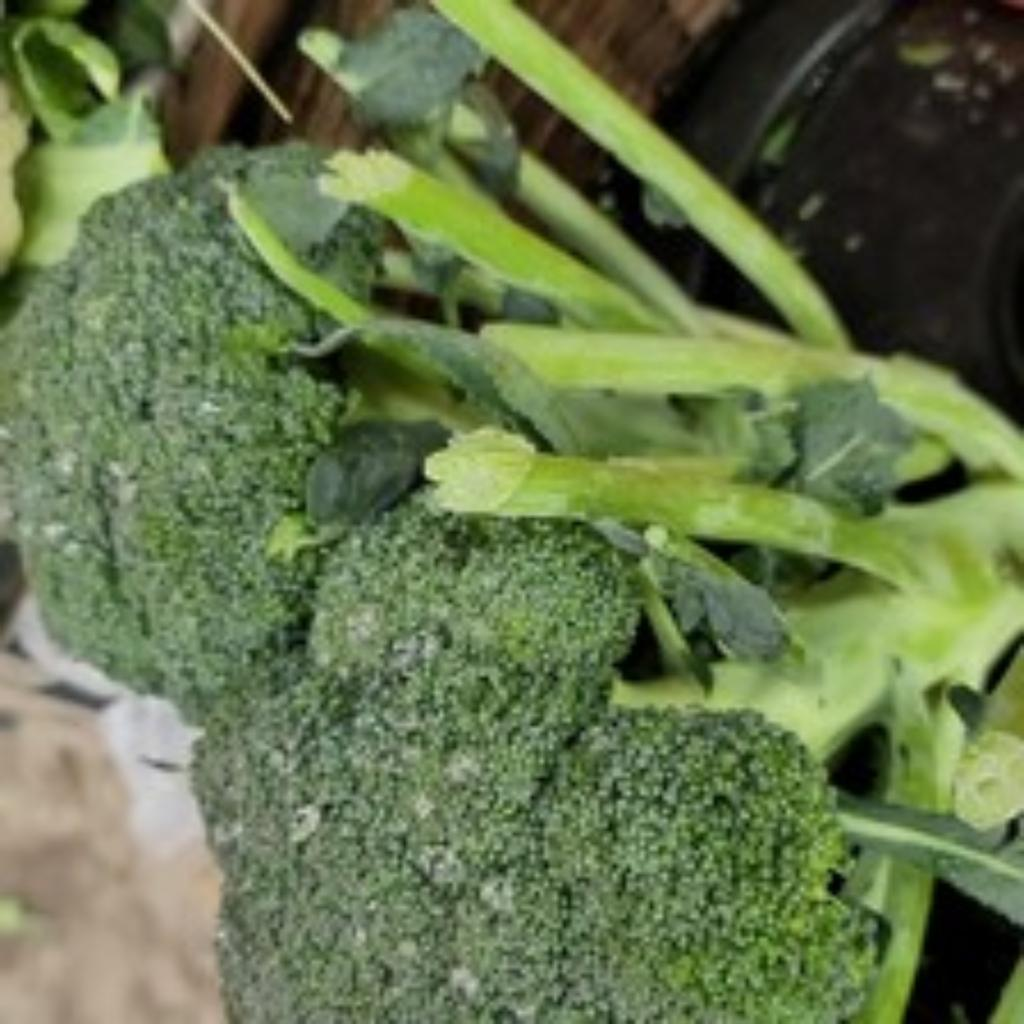Broccoli: (6, 158, 874, 1023), (4, 160, 872, 1023)
